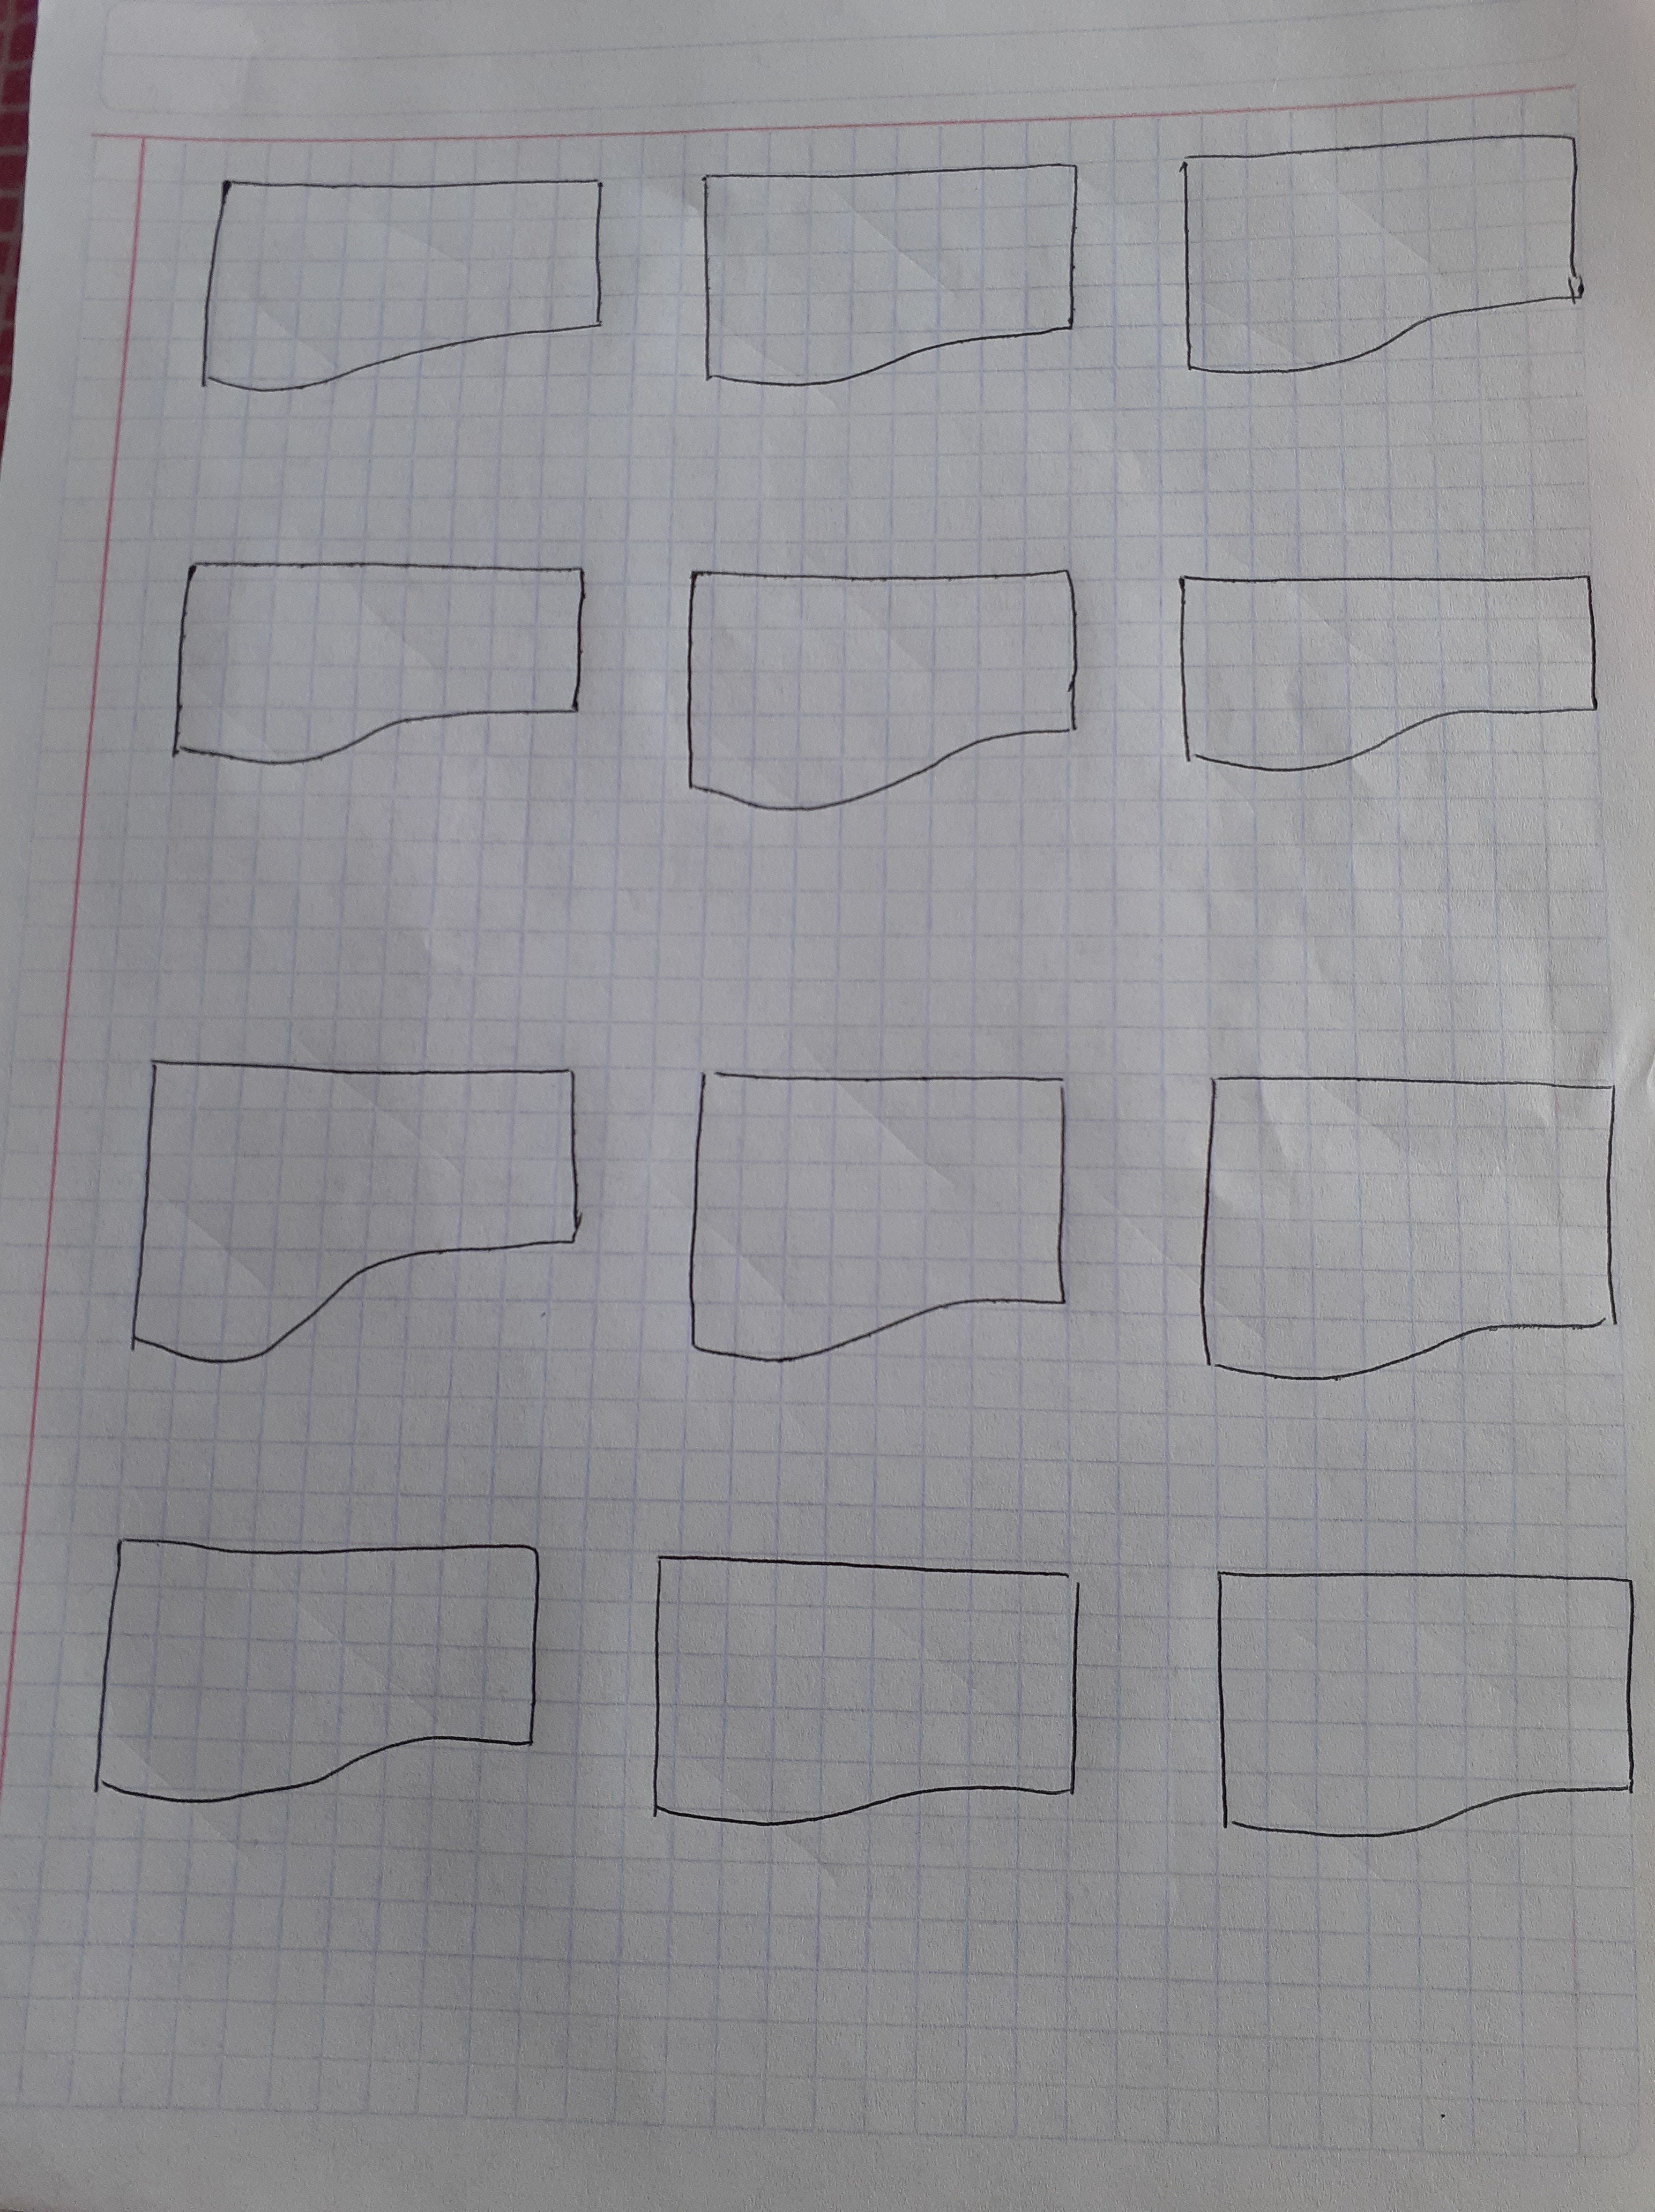print: (615, 1487, 1111, 1878), (1170, 1015, 1639, 1421), (106, 1008, 598, 1387), (1198, 1513, 1643, 1913), (59, 1501, 551, 1852), (681, 1022, 1090, 1397), (671, 523, 1097, 844), (1151, 97, 1599, 393), (176, 132, 628, 419), (1160, 533, 1613, 811), (160, 523, 598, 805), (688, 125, 1107, 419)
